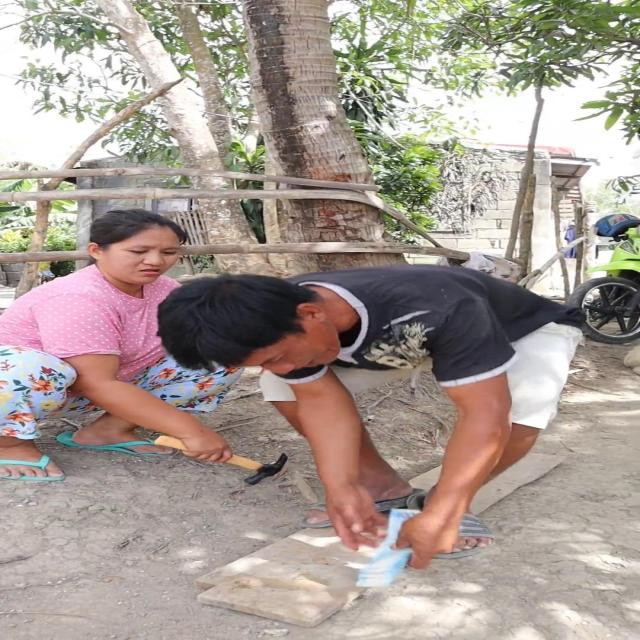hammer: (154, 435, 290, 486)
